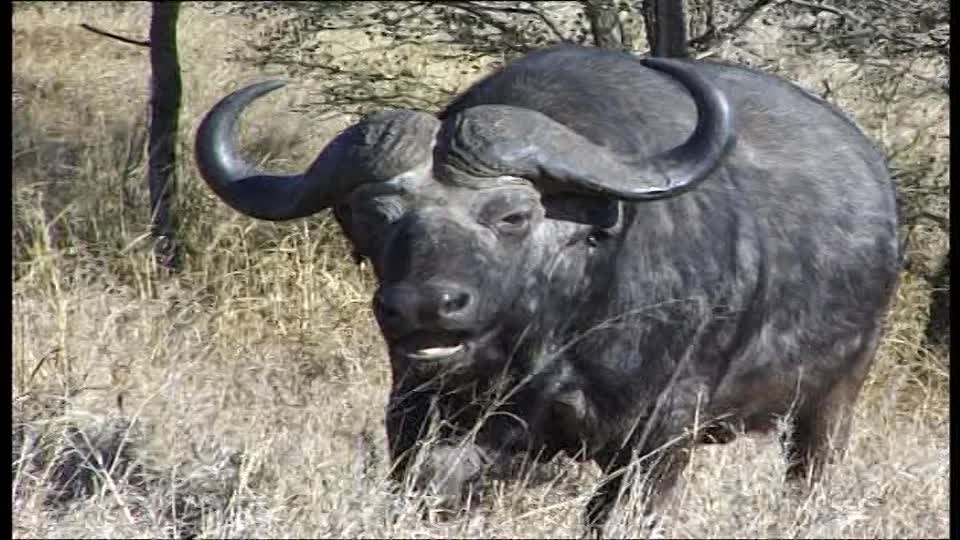buffalo: (188, 43, 898, 522)
